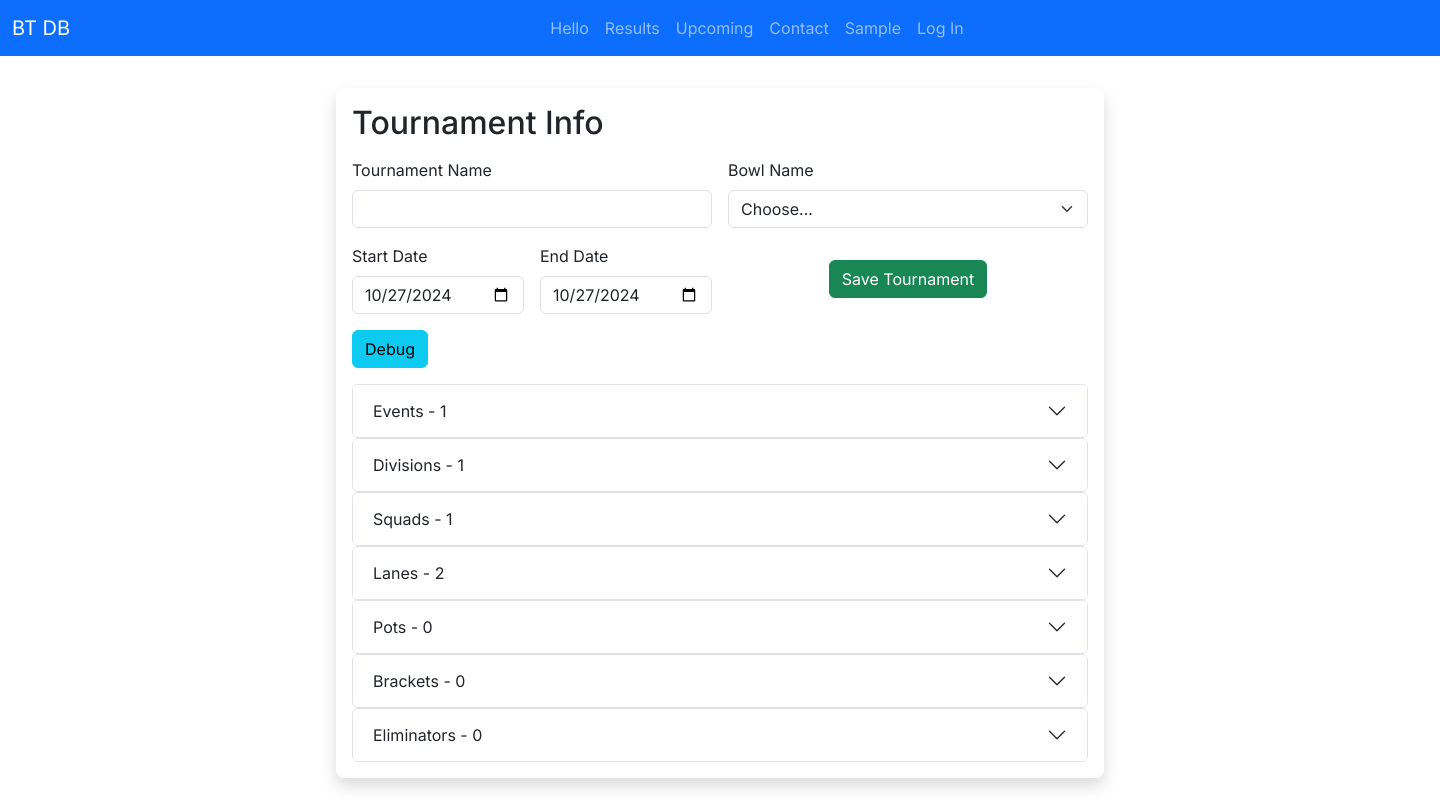
Scenario: TmntDataPage - Brackets Component › click the bracket division radio buttons › initially one division for brackets, radio buton not checked
Click the button "Brackets - 0" at (414, 681), box top-left (353, 655), bottom-right (1087, 707)
(page scrolled)
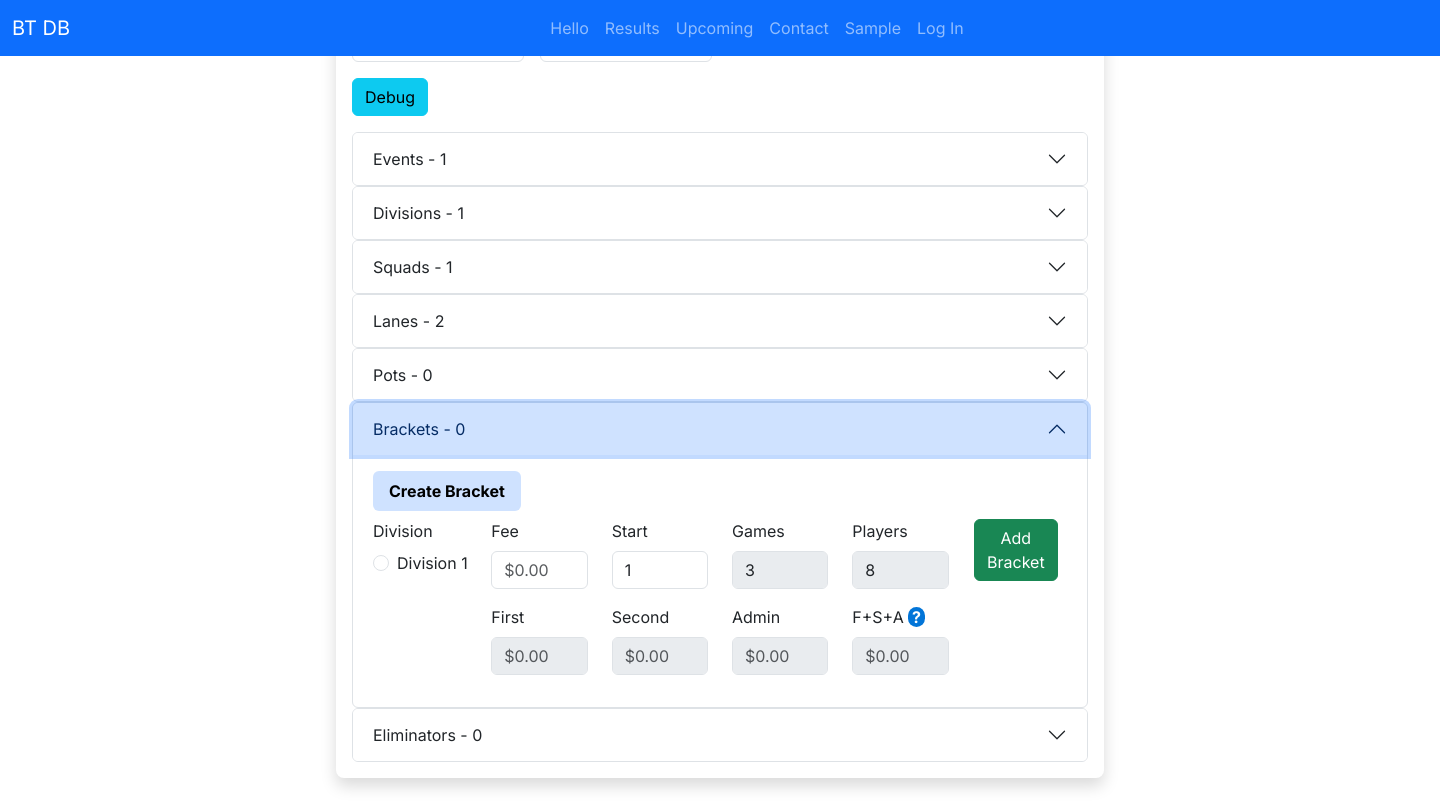
Expected: the number of radio buttons labelled "division 1" is 3
Expected: the radio button labelled "Division 1" is not checked, top-left (373, 555), bottom-right (389, 571)
